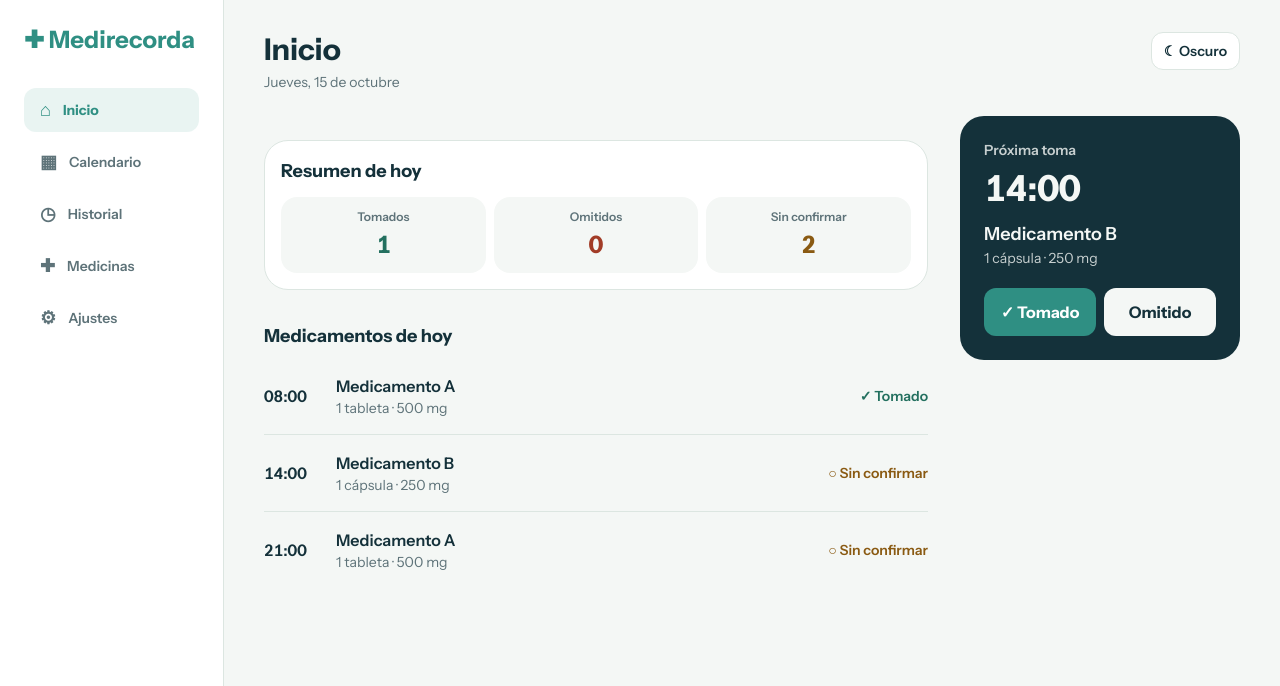
cantidad por toma › vacía muestra el mensaje de vacío
The image size is (1280, 686).
Click the button "✚ Medicinas" at (112,266), box [24,244,199,288]
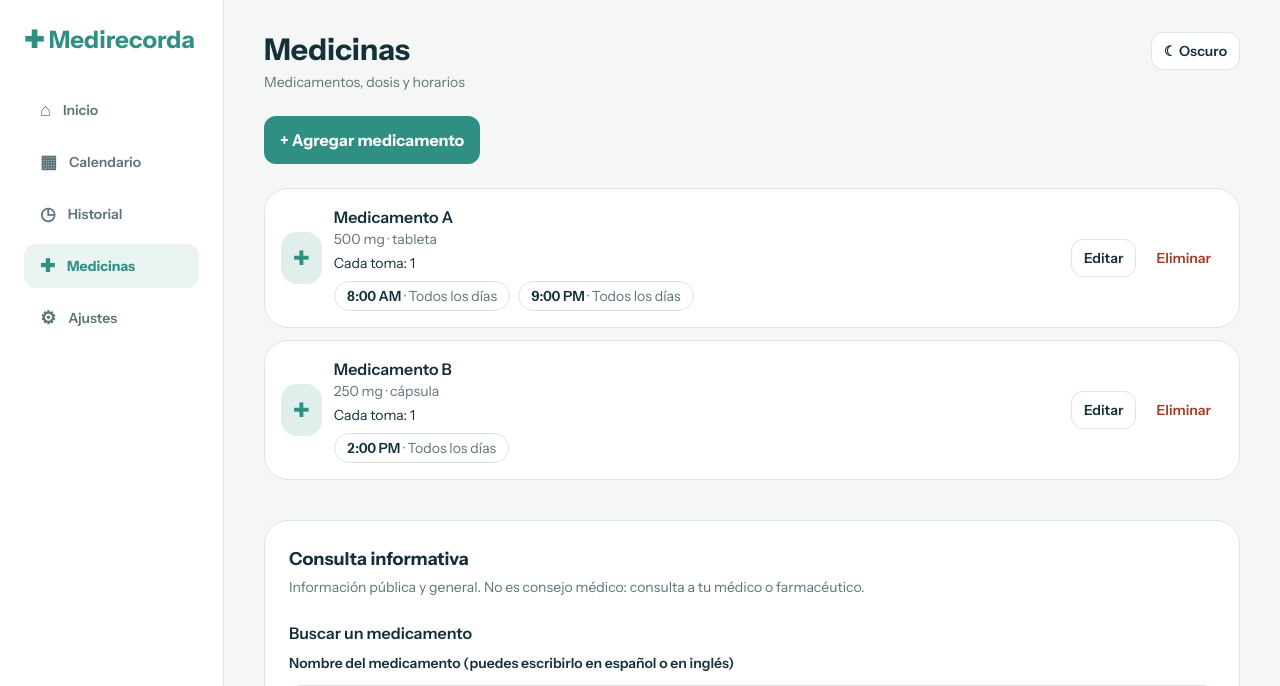
Click the button "+ Agregar medicamento" at (372,140), box [264,116,480,164]
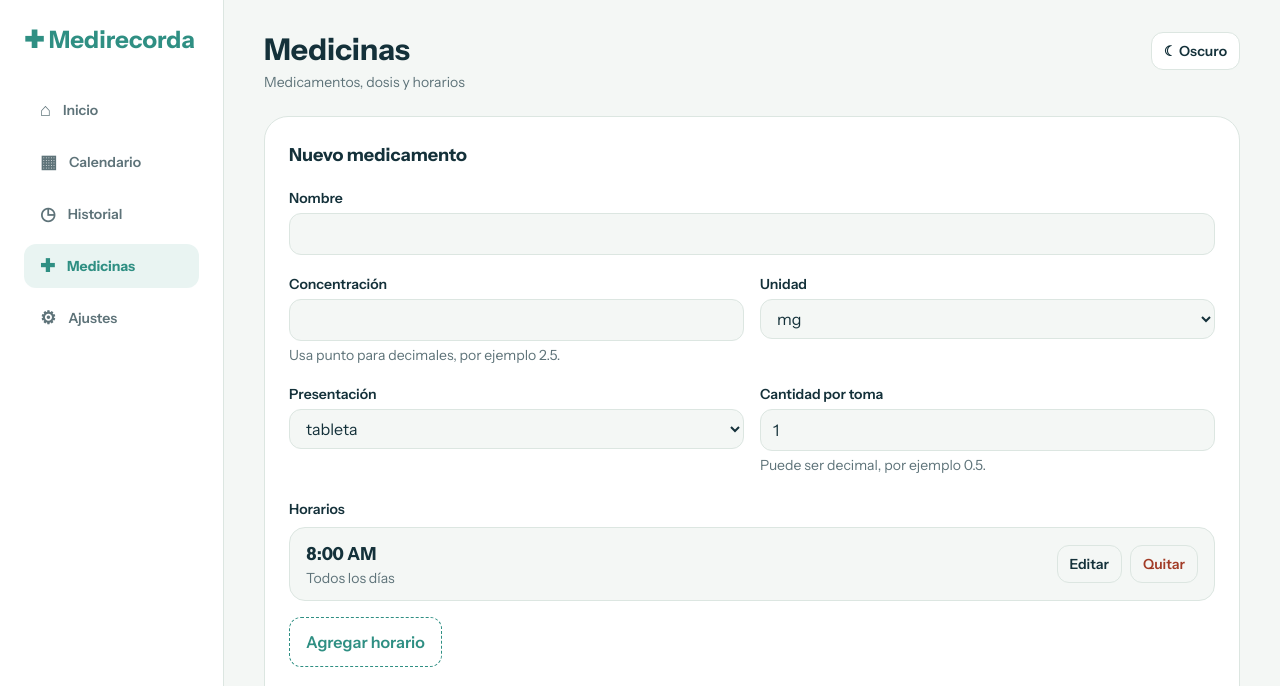
Clear the field labelled "Cantidad por toma" at (988,430), box [760,409,1215,451]
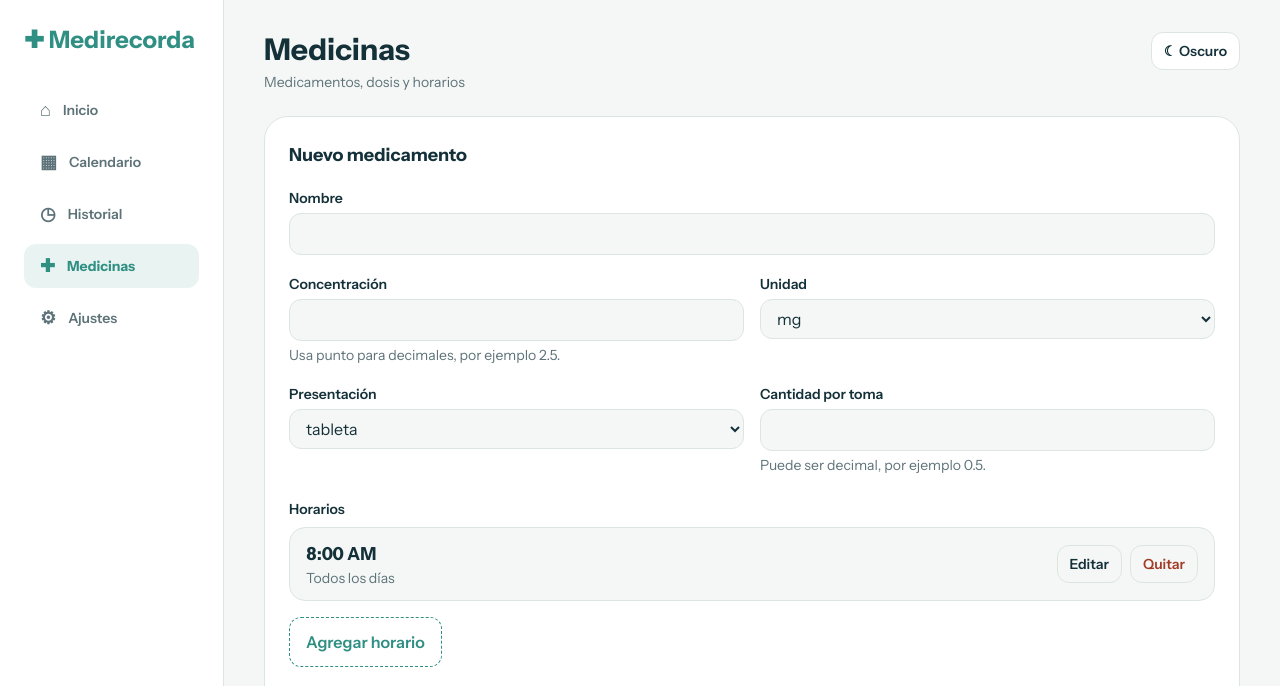
Leave the field labelled "Cantidad por toma", box [760,409,1215,451]
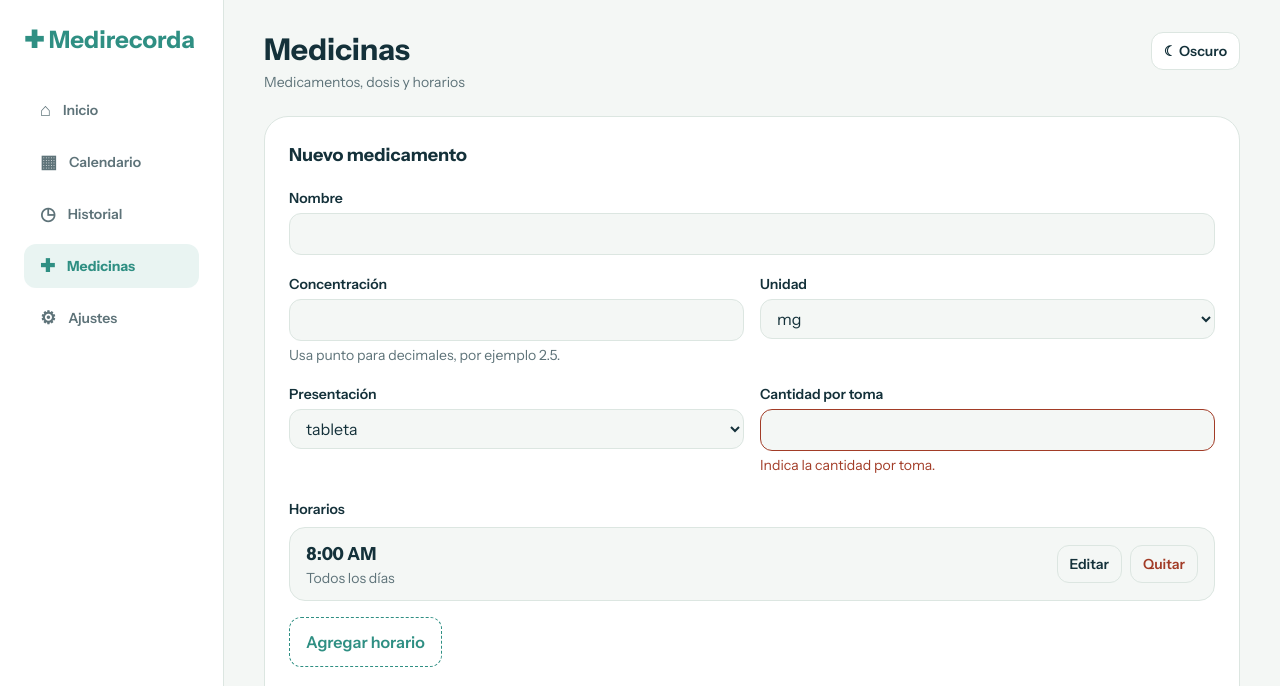
Check: the text "Indica la cantidad por toma." is shown, box [760,456,935,474]
